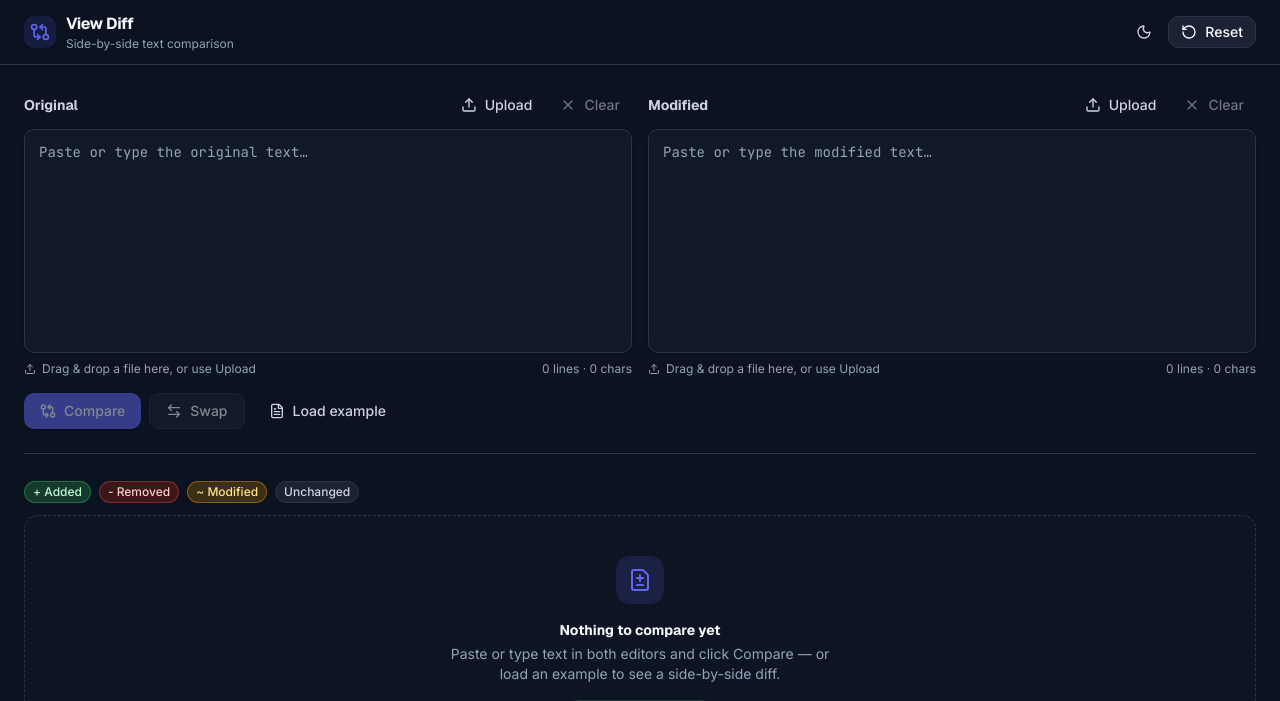
polish & cross-cutting (Phase 7) › toggles between dark and light themes on <html>
Step 1. Click the button named "switch to light theme" → (1144, 32), box x1=1126 y1=14 x2=1162 y2=50
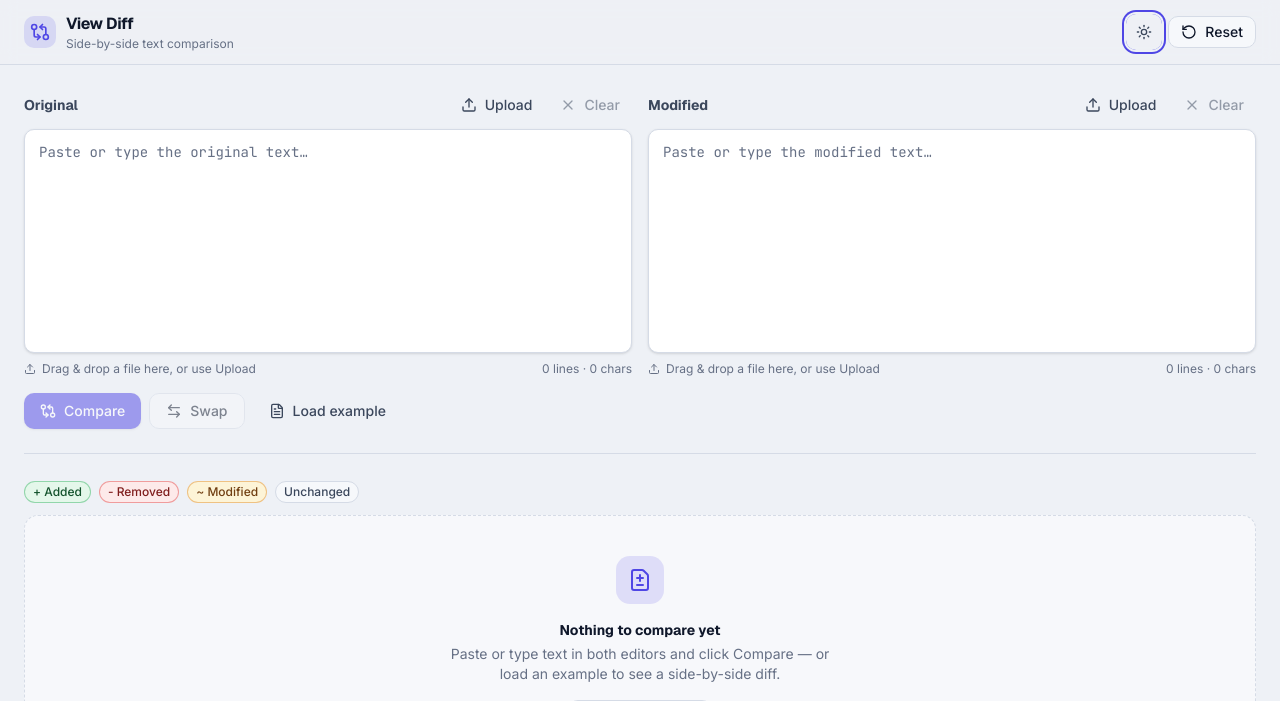
expect the button named "switch to dark theme" is shown: met, box x1=1126 y1=14 x2=1162 y2=50
